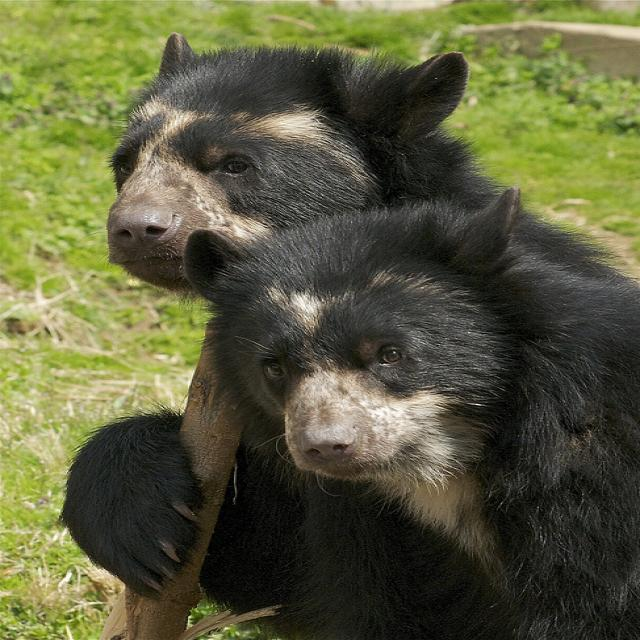Bear: (53, 17, 640, 614), (187, 208, 640, 637)
